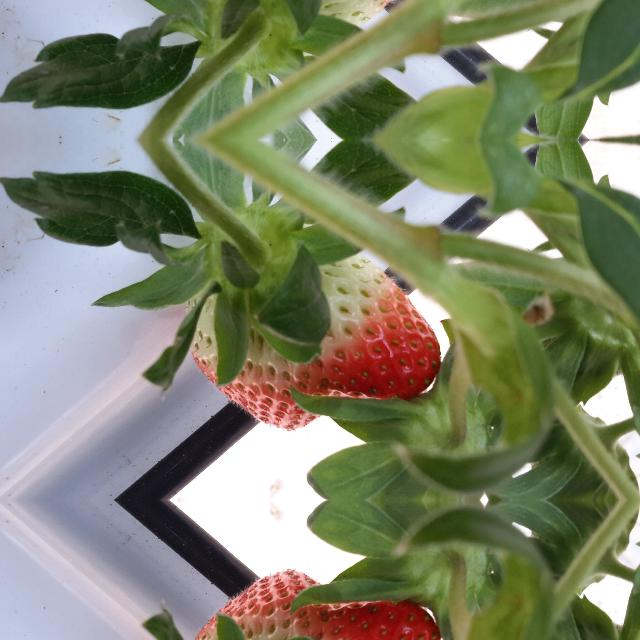Health_100: (186, 255, 442, 429), (186, 571, 441, 640)
